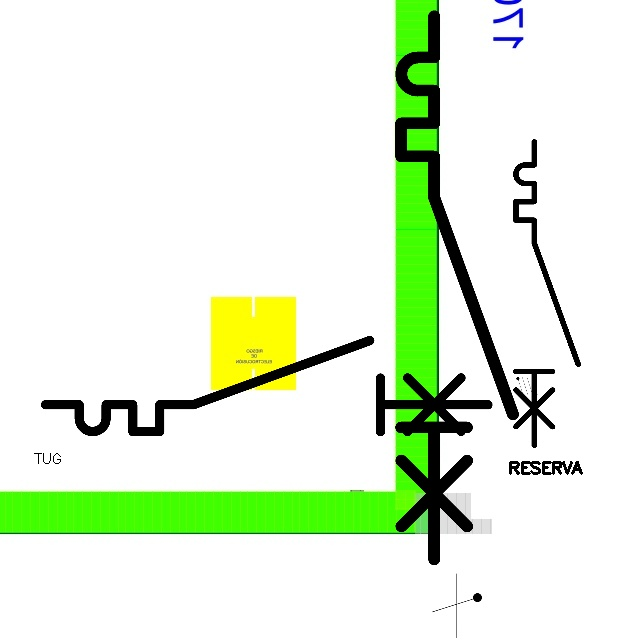interruptor_termomagnetico: (387, 2, 527, 573), (34, 329, 499, 443), (508, 134, 586, 453)
